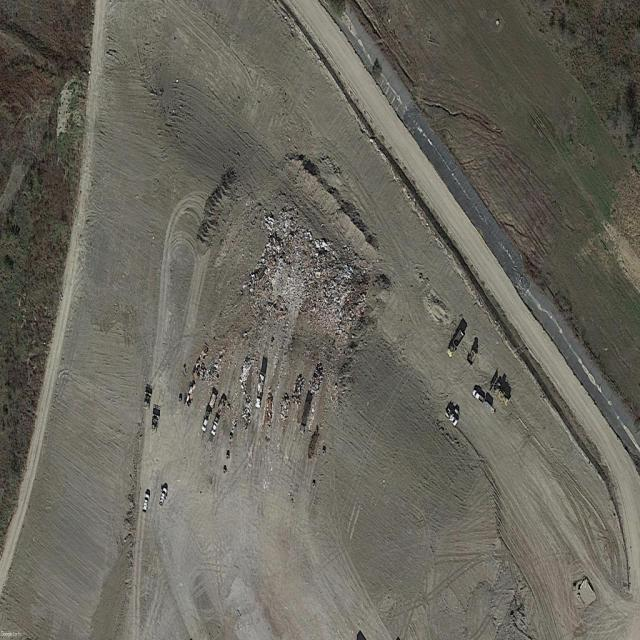dump_site: (237, 193, 392, 369), (189, 336, 231, 389), (237, 346, 256, 392), (308, 356, 327, 396), (261, 385, 277, 427), (239, 395, 254, 430), (291, 373, 306, 405), (279, 391, 291, 422)
